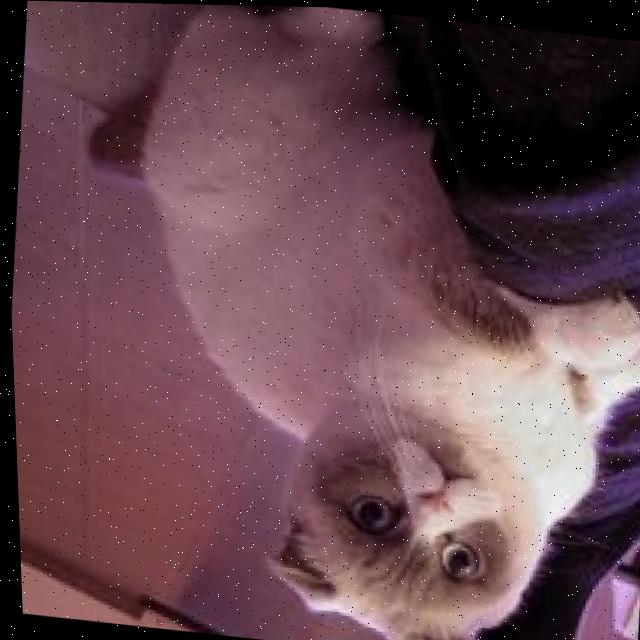Scottish Fold: (36, 1, 640, 640)
